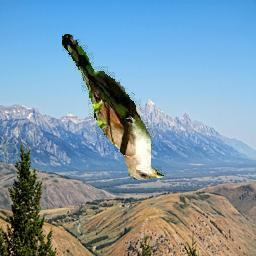Cuckoo: (62, 34, 166, 180)
